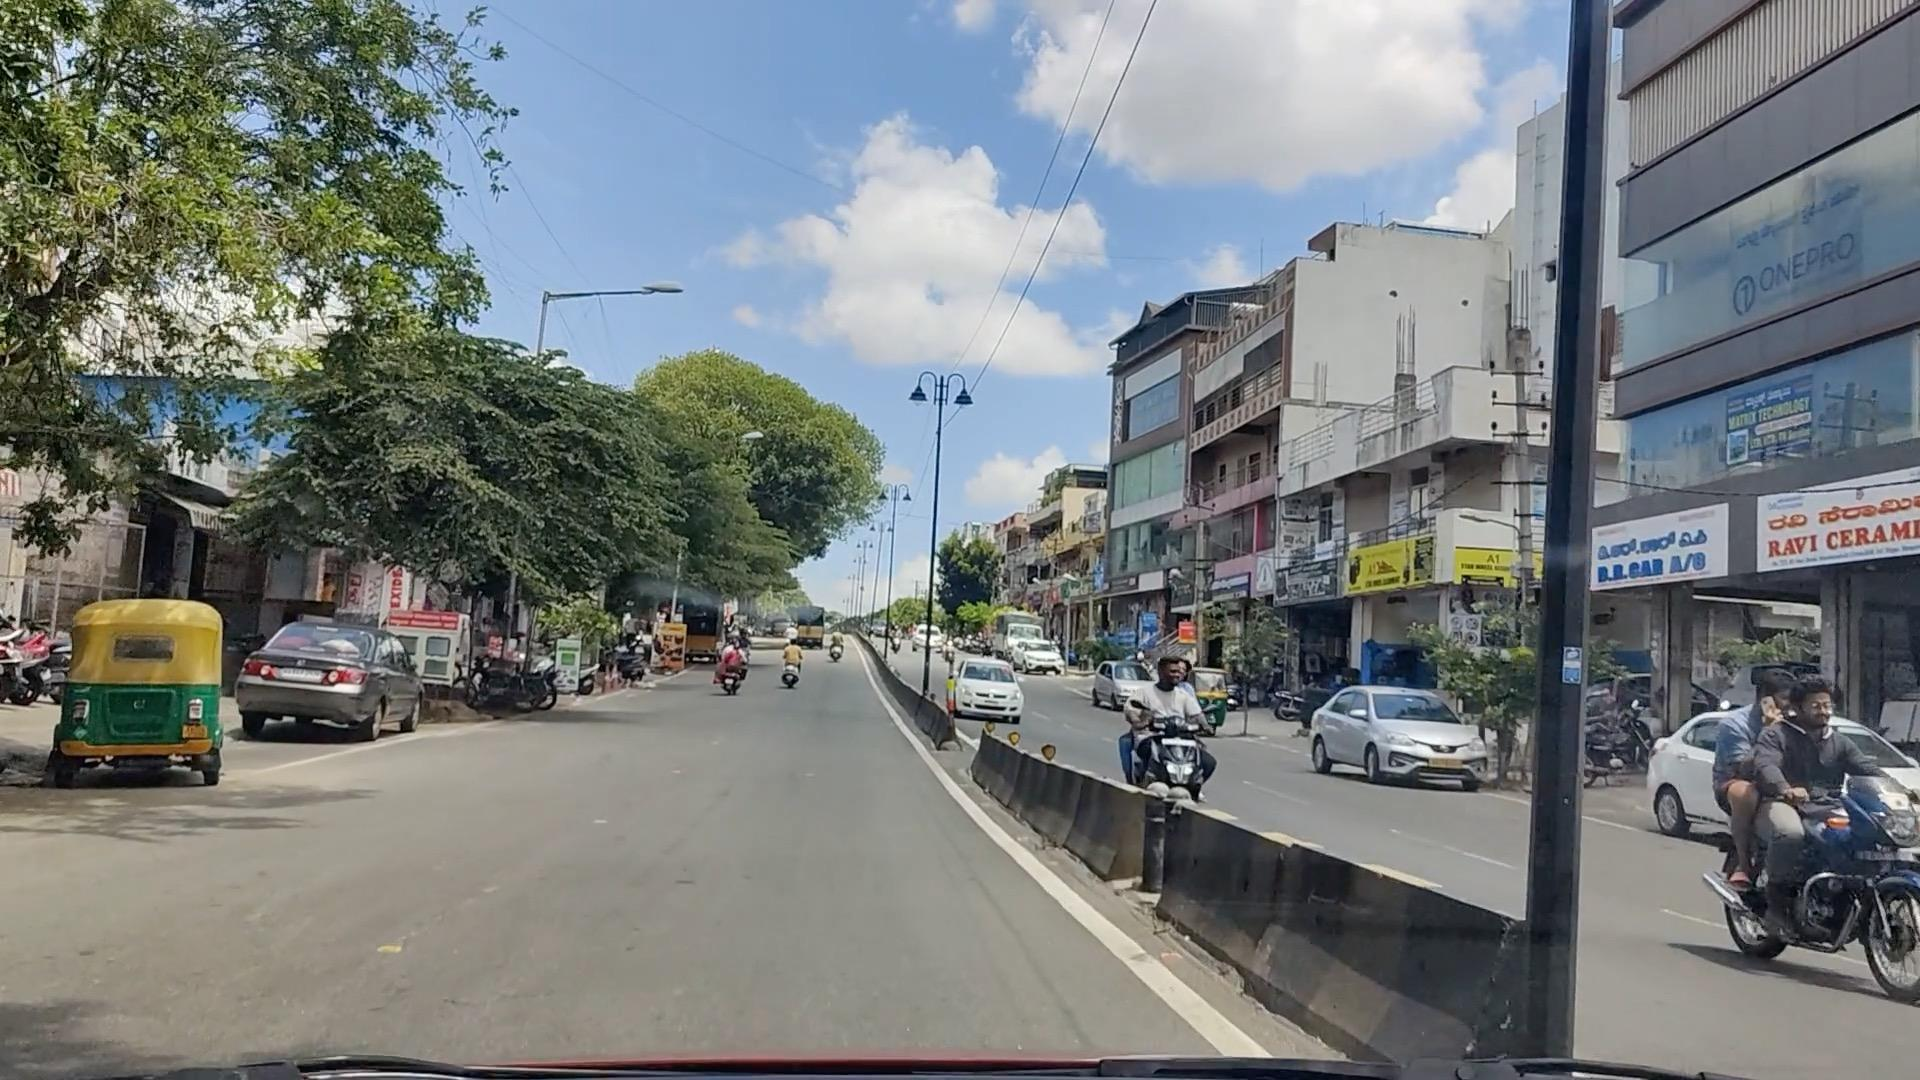LMV: (1730, 667, 1920, 993), (76, 587, 215, 812), (1106, 661, 1229, 781), (969, 644, 1030, 721), (713, 611, 757, 692)
